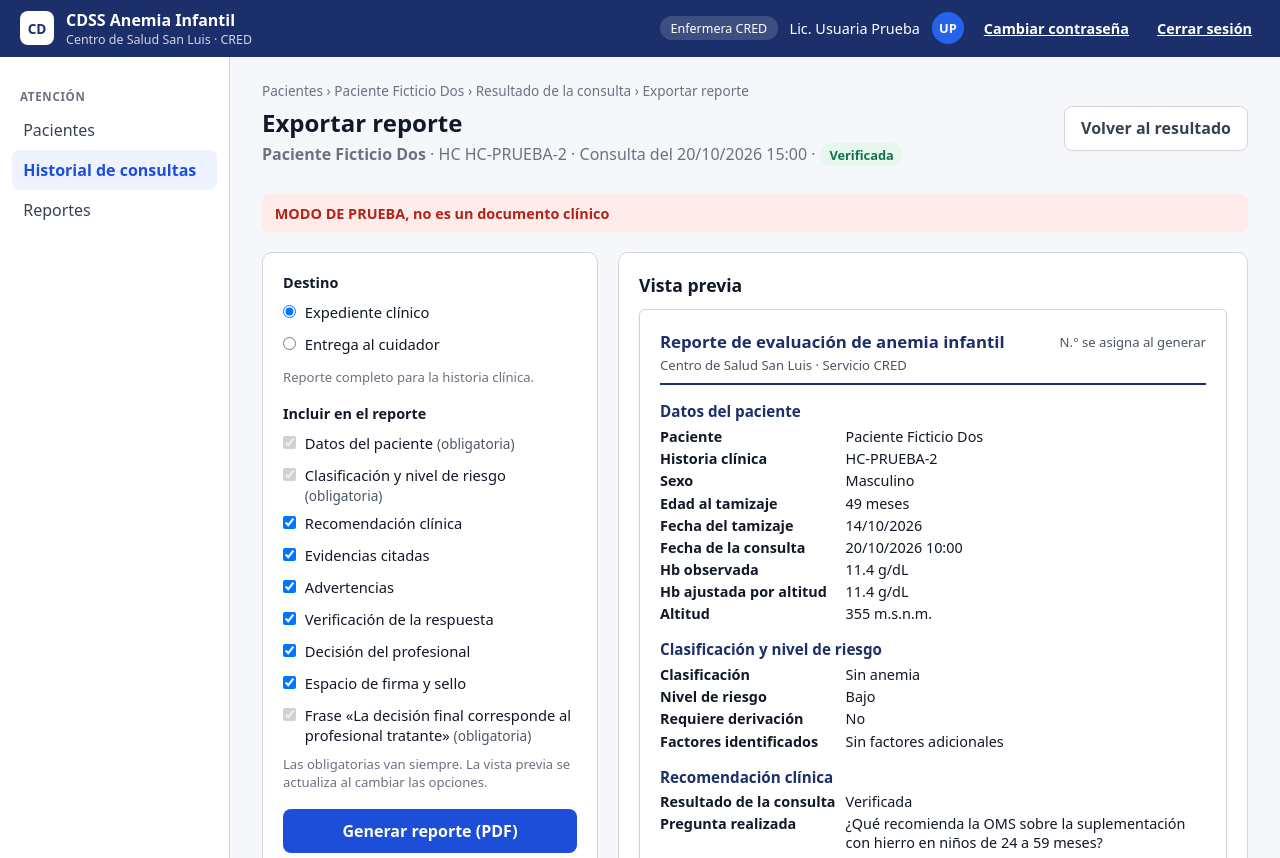
it: M09 · opciones y vista previa › cuidador con las frases revisadas: sin aviso de texto en revisión
The width and height of the screenshot is (1280, 858).
Click the radio button labelled "Entrega al cuidador".
click(290, 344)  # box [283,337,296,350]
(page scrolled)
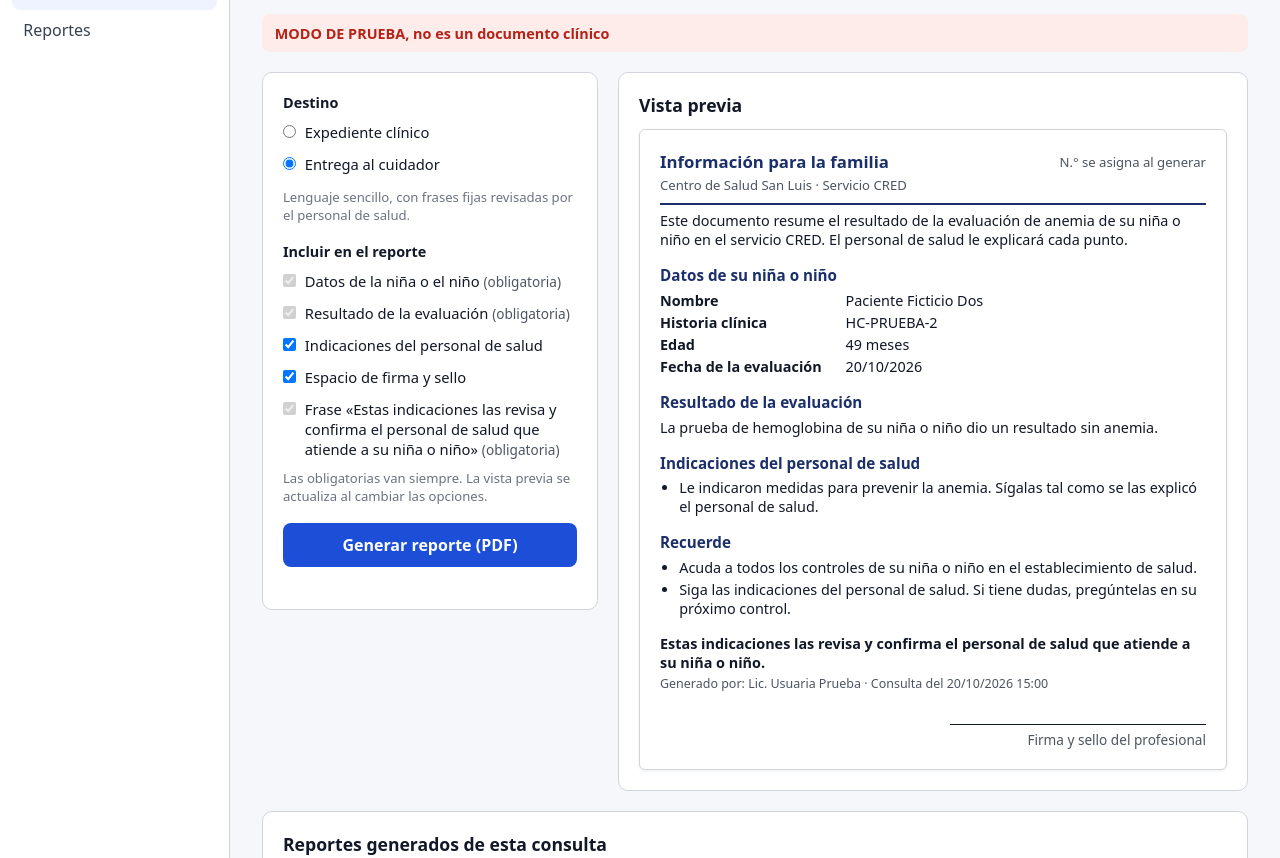
Result: the element named "Vista previa del documento" shows "Información para la familia" at [660,150,889,173]
